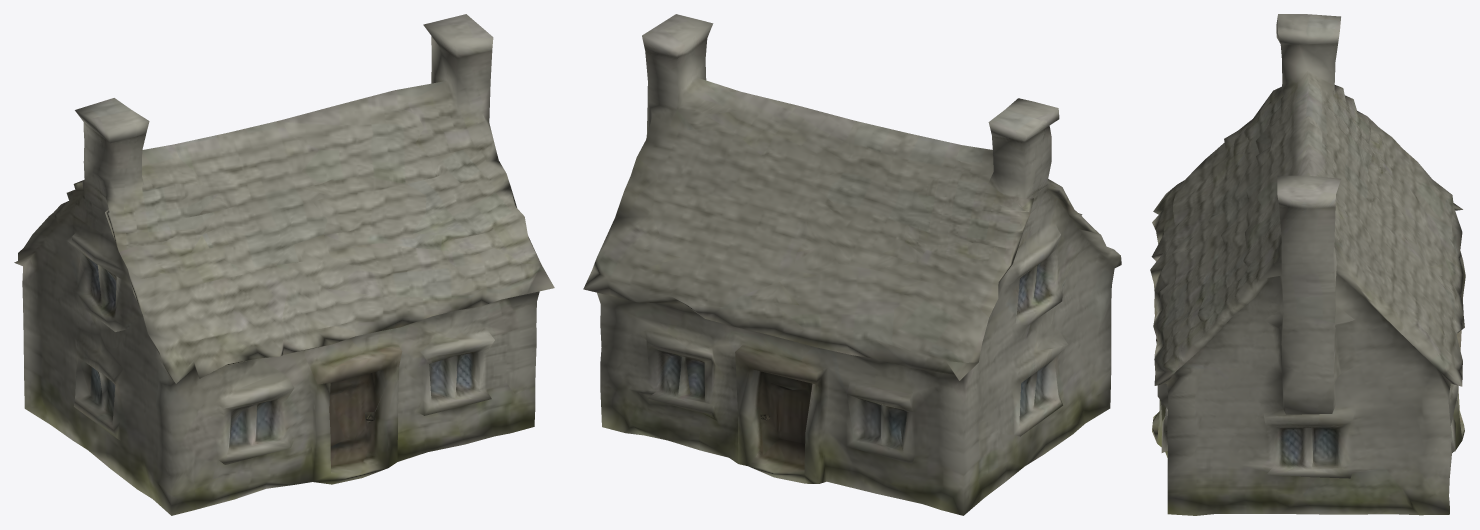
File: house_english.glb
The picture shows the model from 3 angles, left to right: view 1: azimuth 30°, elevation 25°; view 2: azimuth 150°, elevation 25°; view 3: azimuth 270°, elevation 25°; orthographic projection. The views are drawn at different scales.
Parts seen in each view (by area): view 1: tripo_node_b0cf1579-34e5-4efb-a957-d5d8b9eb06c8; view 2: tripo_node_b0cf1579-34e5-4efb-a957-d5d8b9eb06c8; view 3: tripo_node_b0cf1579-34e5-4efb-a957-d5d8b9eb06c8.
Part boxes in pixels (left/top/right/bottom): tripo_node_b0cf1579-34e5-4efb-a957-d5d8b9eb06c8: left=14, top=14, right=554, bottom=515; tripo_node_b0cf1579-34e5-4efb-a957-d5d8b9eb06c8: left=583, top=14, right=1121, bottom=515; tripo_node_b0cf1579-34e5-4efb-a957-d5d8b9eb06c8: left=1150, top=14, right=1465, bottom=515.
Size of the model in its own units: 0.9788 by 0.8219 by 0.7116.
1 material, 1 textured.
